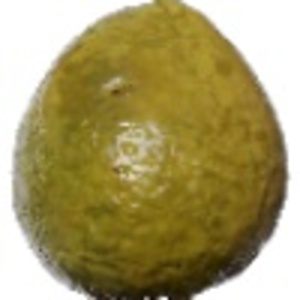goiaba: (11, 6, 289, 296)
